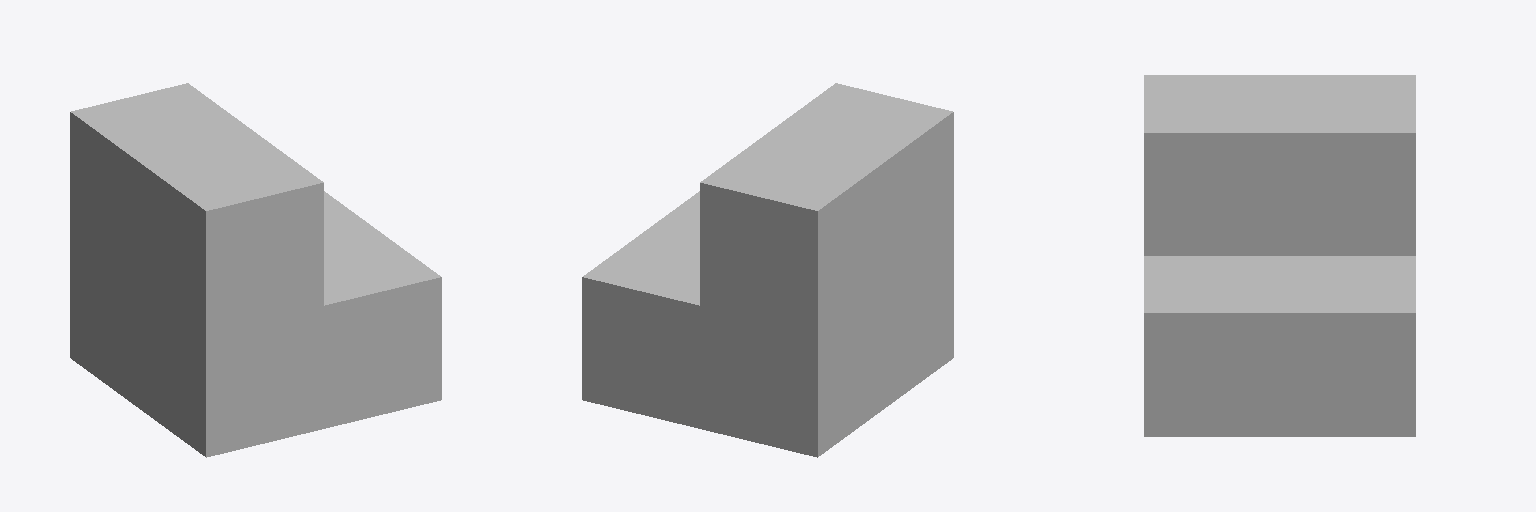
The model's file is stair_block.obj.
The picture shows the model from 3 angles: view 1: azimuth 30°, elevation 25°; view 2: azimuth 150°, elevation 25°; view 3: azimuth 270°, elevation 25°; orthographic projection.
Visible parts, largest first — view 1: StairBlock; view 2: StairBlock; view 3: StairBlock.
Boxes of the visible parts, x1=… form: StairBlock: x1=70, y1=83, x2=441, y2=457; StairBlock: x1=582, y1=83, x2=953, y2=457; StairBlock: x1=1144, y1=75, x2=1415, y2=436.
Size of the model in its own units: 1 by 1 by 1.